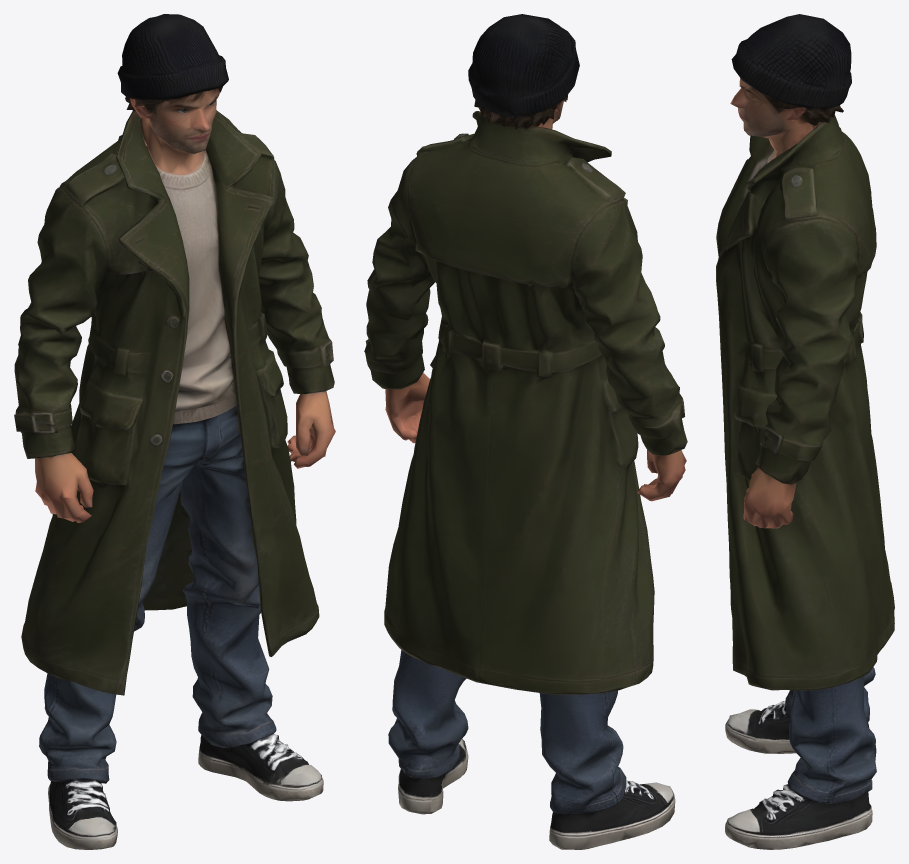
Rendered from player.glb.
3 views of the same model, side by side, from view 1: azimuth 30°, elevation 25°; view 2: azimuth 150°, elevation 25°; view 3: azimuth 270°, elevation 25° (orthographic). The views are drawn at different scales.
Visible parts, largest first — view 1: tripo_node_c83ba263-b5e9-4d05-8067-81173cc91604; view 2: tripo_node_c83ba263-b5e9-4d05-8067-81173cc91604; view 3: tripo_node_c83ba263-b5e9-4d05-8067-81173cc91604.
Boxes of the visible parts, <box> form: tripo_node_c83ba263-b5e9-4d05-8067-81173cc91604: <box>14,14,335,849</box>; tripo_node_c83ba263-b5e9-4d05-8067-81173cc91604: <box>364,14,687,849</box>; tripo_node_c83ba263-b5e9-4d05-8067-81173cc91604: <box>716,14,894,849</box>.
Bounding box in the file's own units: 0.4165 × 1 × 0.2102.
1 material, 1 textured.
